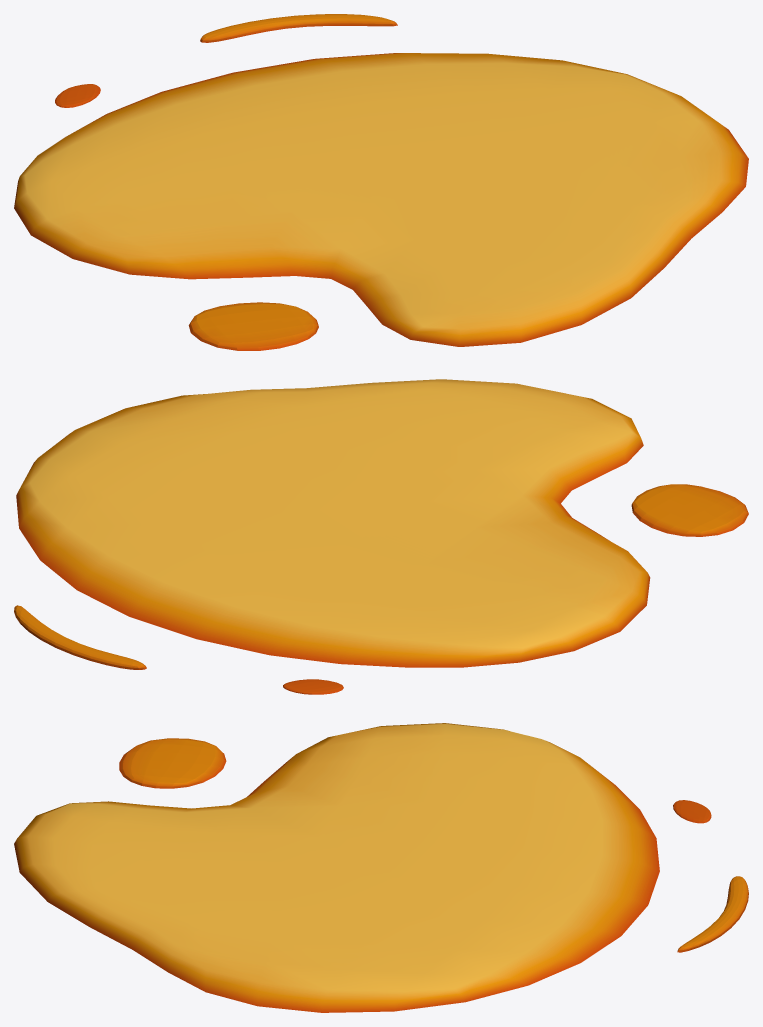
The model's file is StickyPatchBB.glb.
The picture shows the model from 3 angles, top to bottom: view 1: azimuth 30°, elevation 25°; view 2: azimuth 150°, elevation 25°; view 3: azimuth 270°, elevation 25°; orthographic projection. The views are drawn at different scales.
Parts seen in each view (by area): view 1: StickyPatch.001; view 2: StickyPatch.001; view 3: StickyPatch.001.
Boxes of the visible parts, x1,y1,x2,y2 form: StickyPatch.001: (14,14,748,350); StickyPatch.001: (14,379,748,694); StickyPatch.001: (14,723,748,1012).
Bounding box in the file's own units: 1.62 × 0.0475 × 1.76.
1 material, 1 textured.
